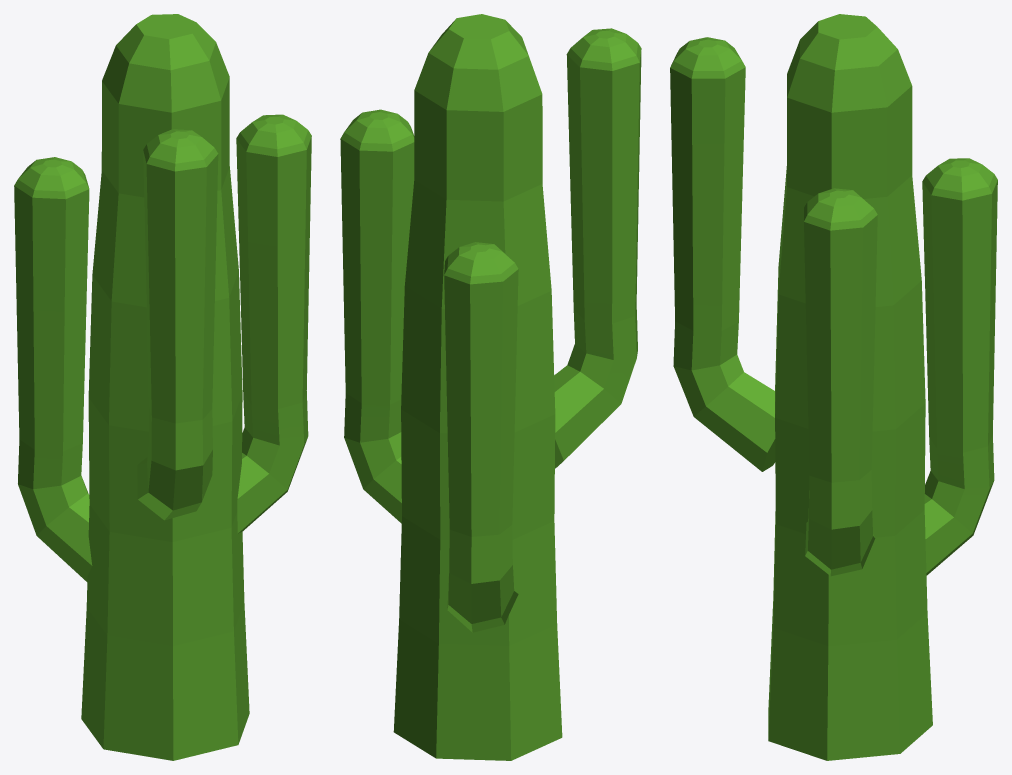
The model's file is Cactus3.fbx.
3 views of the same model, side by side, from view 1: azimuth 30°, elevation 25°; view 2: azimuth 150°, elevation 25°; view 3: azimuth 270°, elevation 25° (orthographic).
Visible parts, largest first — view 1: Cactus4; view 2: Cactus4; view 3: Cactus4.
Boxes of the visible parts, box(x1,y1,x2,y2) form: Cactus4: box(14, 14, 311, 760); Cactus4: box(340, 14, 641, 760); Cactus4: box(670, 14, 997, 760).
Size of the model in its own units: 262 by 770 by 327.
